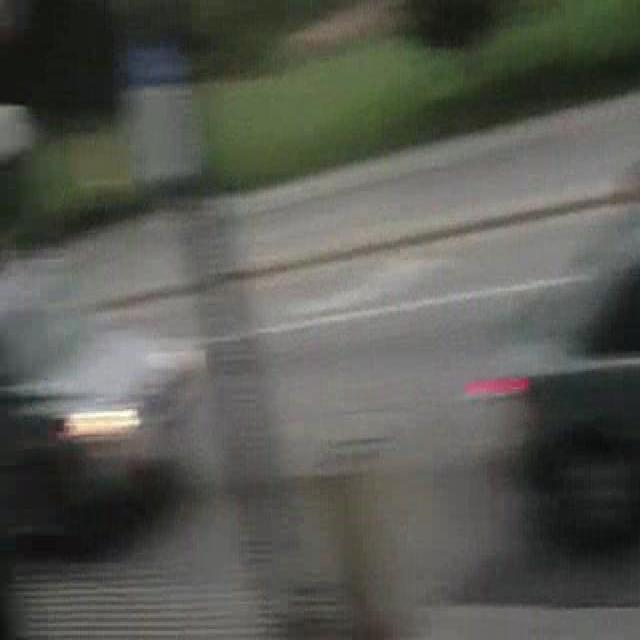other: (43, 388, 168, 467), (454, 369, 545, 409)
